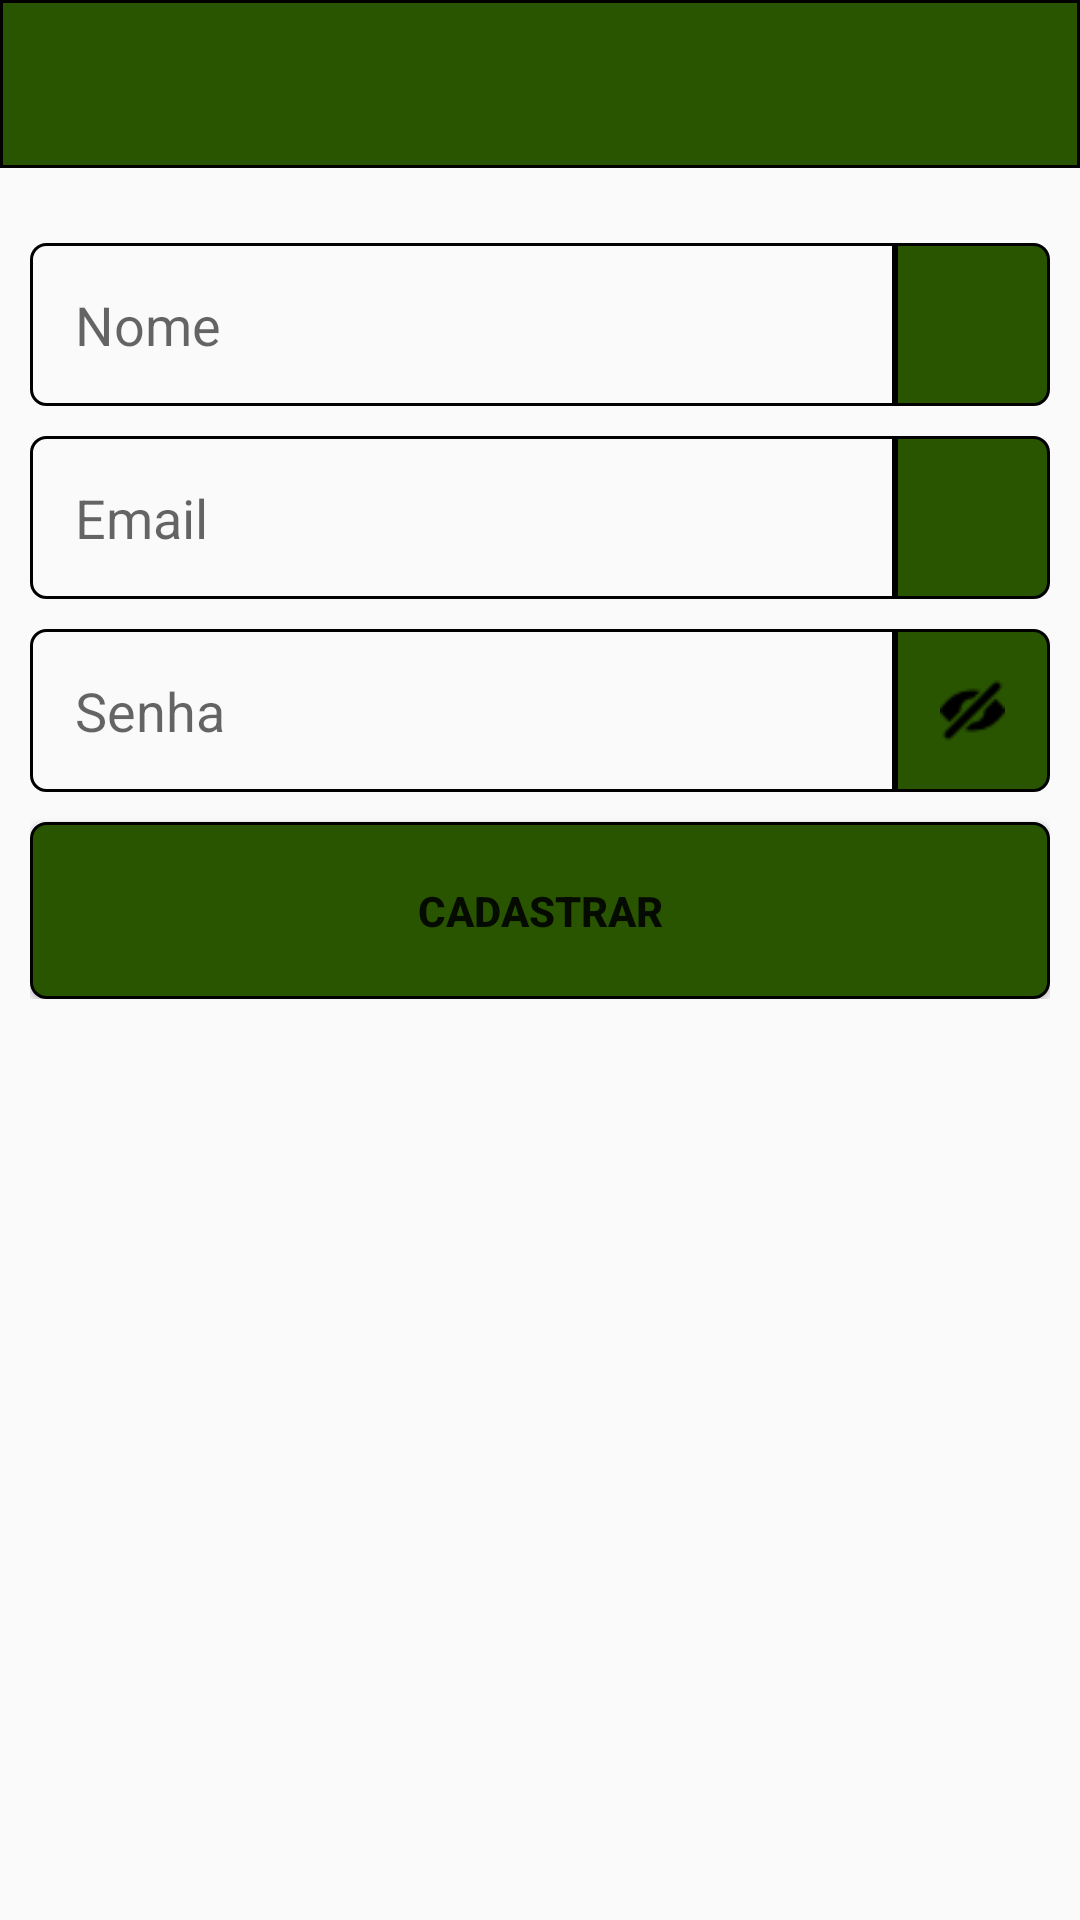

Where to tap for icons on this 1080×1920 app screen, as point (x, y):
olho fechado: point (972, 710)
